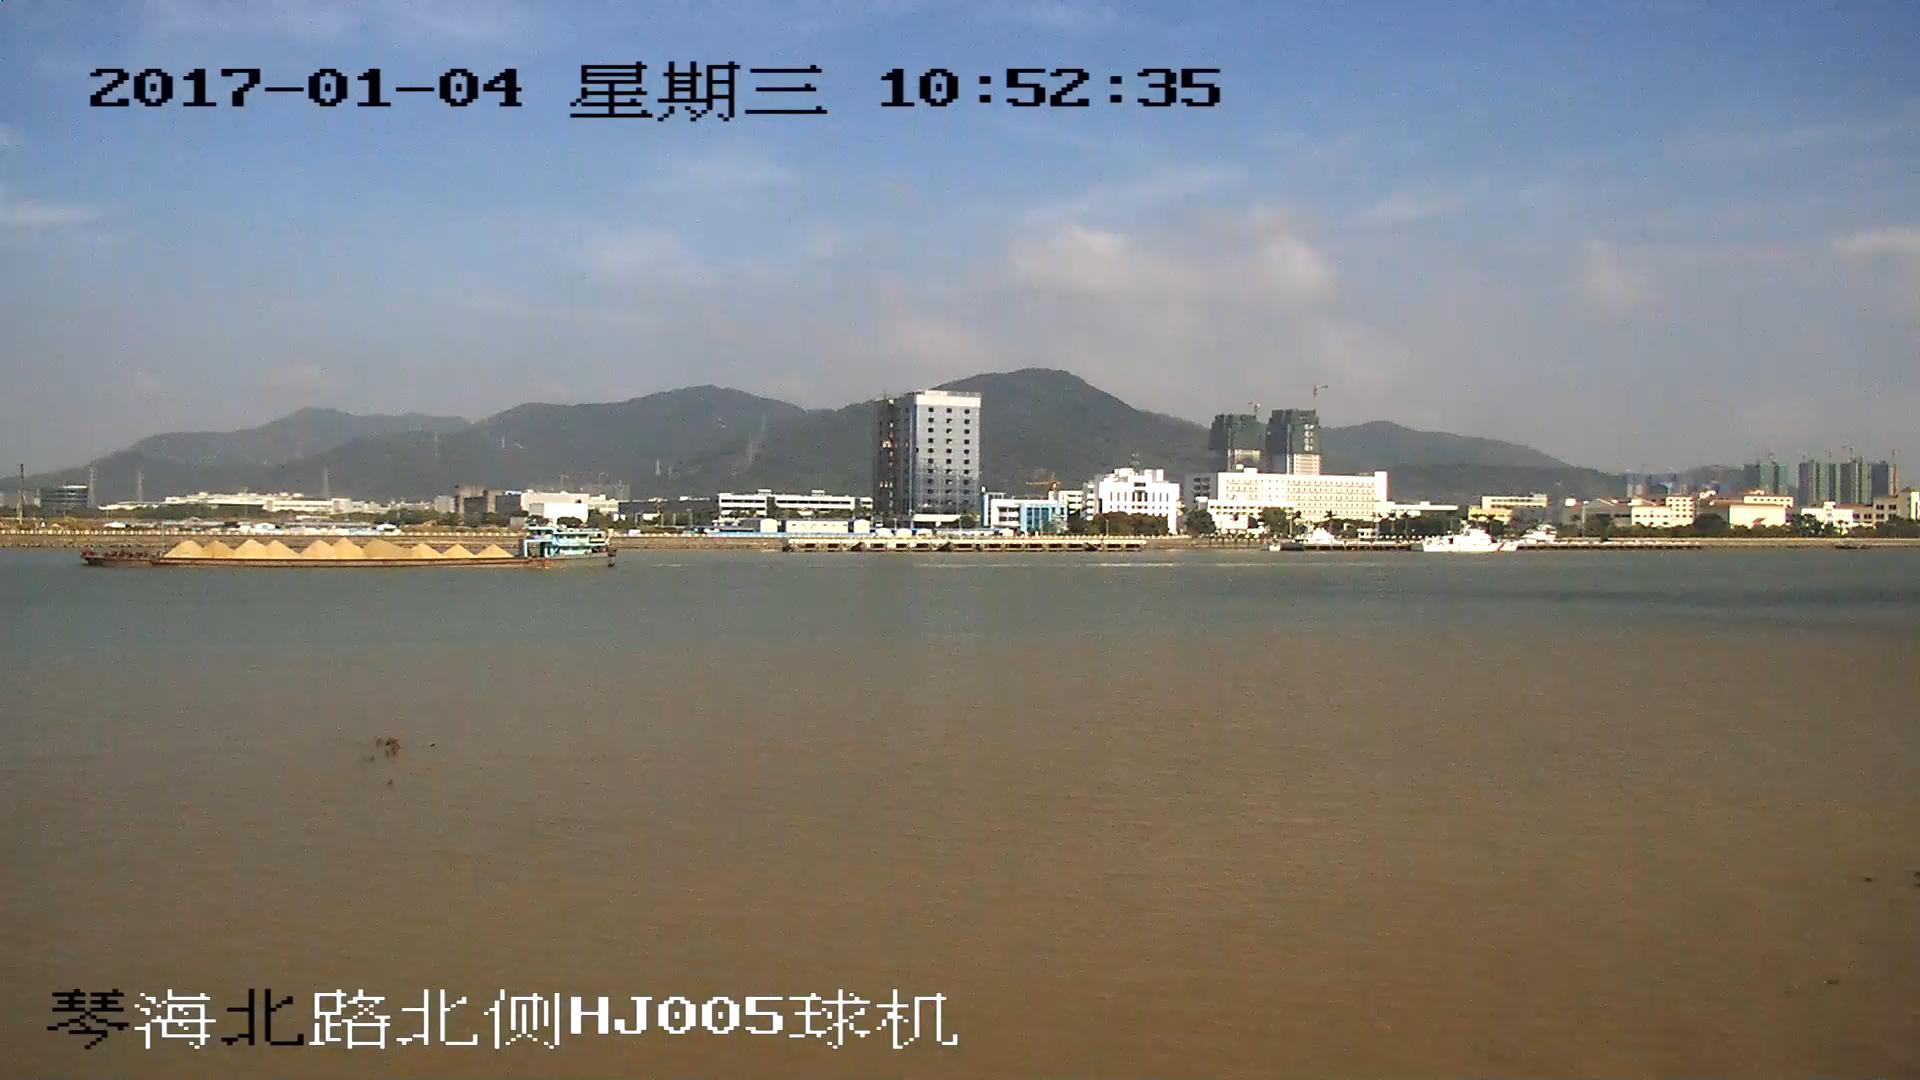ore carrier: (82, 521, 617, 569)
